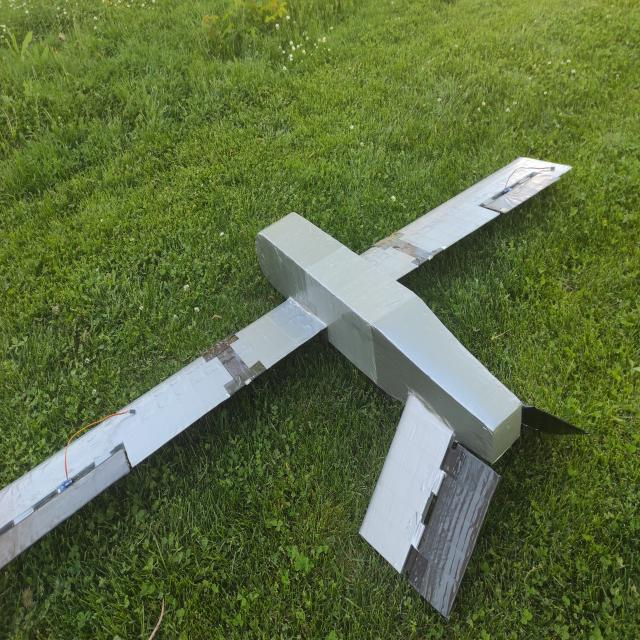iha: (2, 156, 613, 607)
